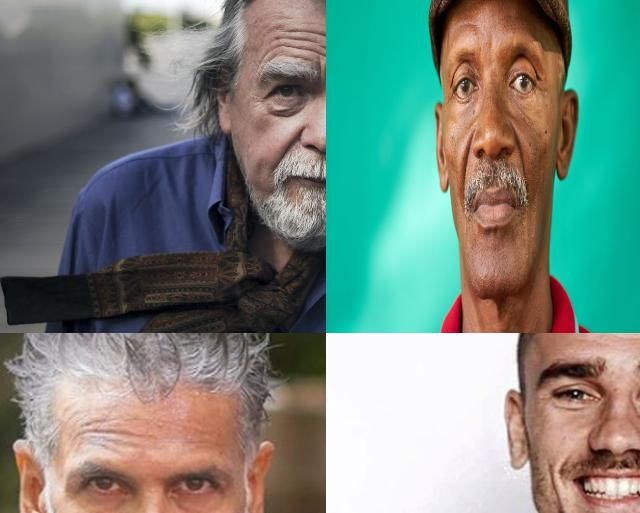crows_feet: (248, 88, 266, 108), (534, 78, 548, 101), (444, 82, 456, 108)
forehead: (277, 26, 317, 64), (78, 413, 118, 443), (122, 424, 146, 443)
frown_line: (315, 62, 325, 82)
gummy_smile: (276, 130, 300, 165), (513, 132, 529, 179), (460, 140, 471, 192)
masseter: (546, 456, 566, 511)
